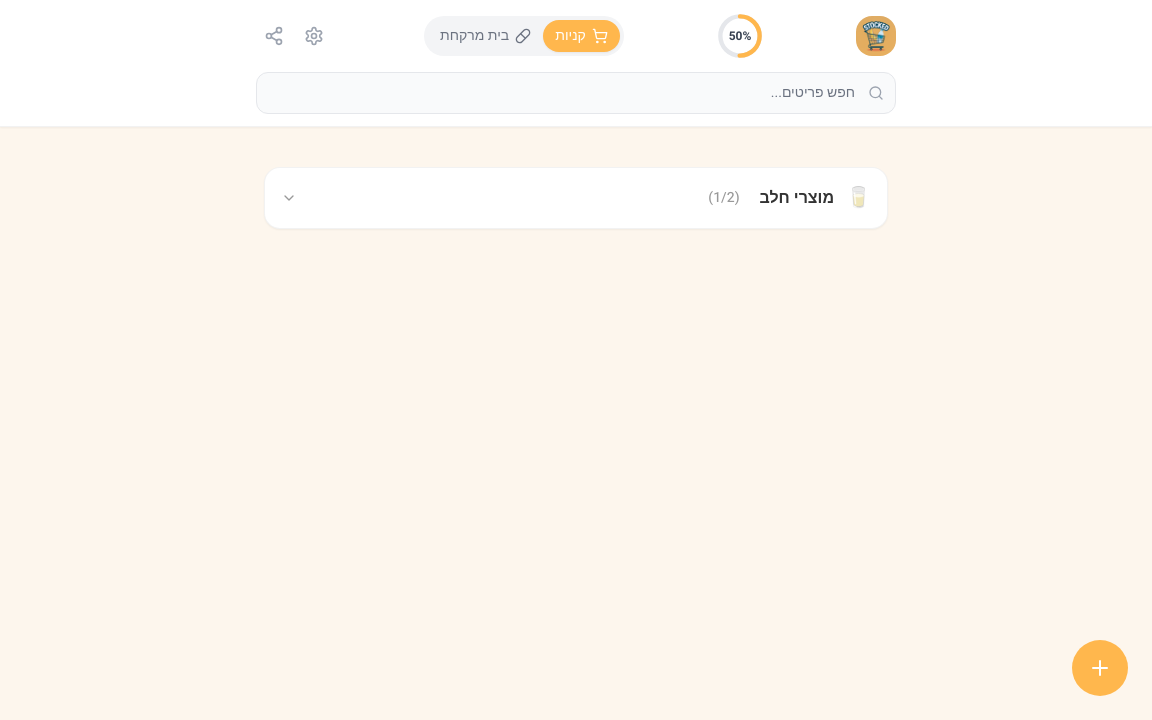
Test: HomeScreen - Detailed Tests › Search Functionality › can clear search with X button
Type "חלב" into the field with placeholder "חפש פריטים..." at (576, 93), box [256,72,896,114]
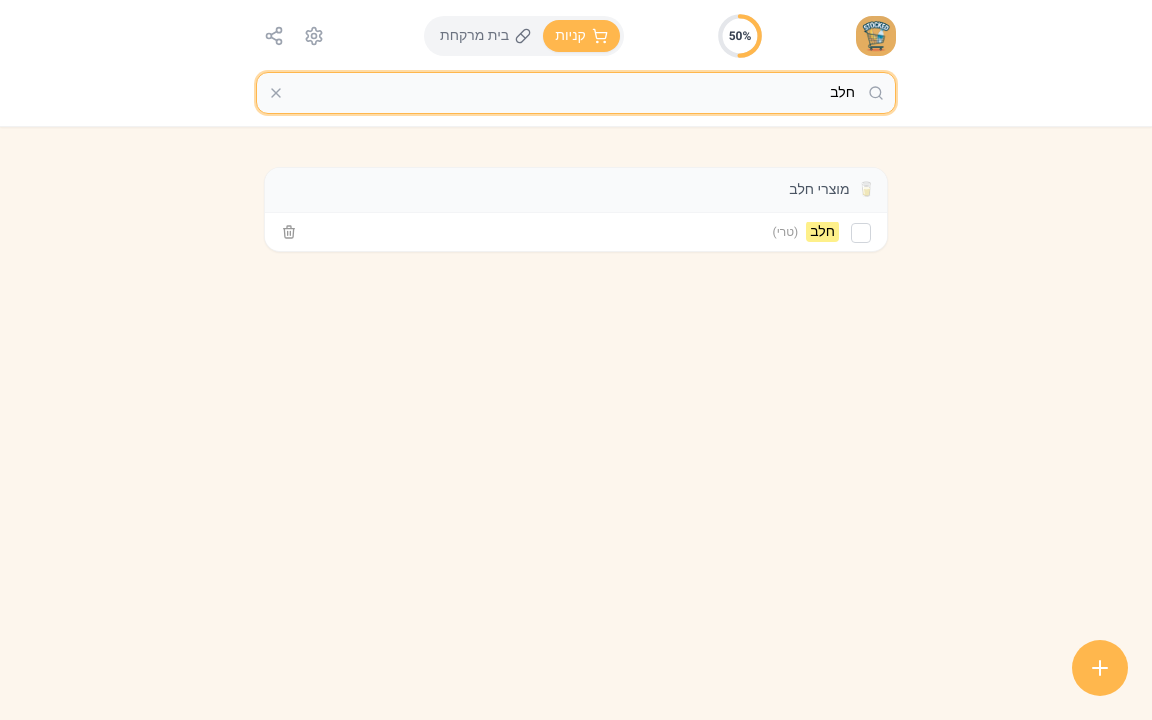
Click the 5th button at (276, 93), box [268,85,284,101]
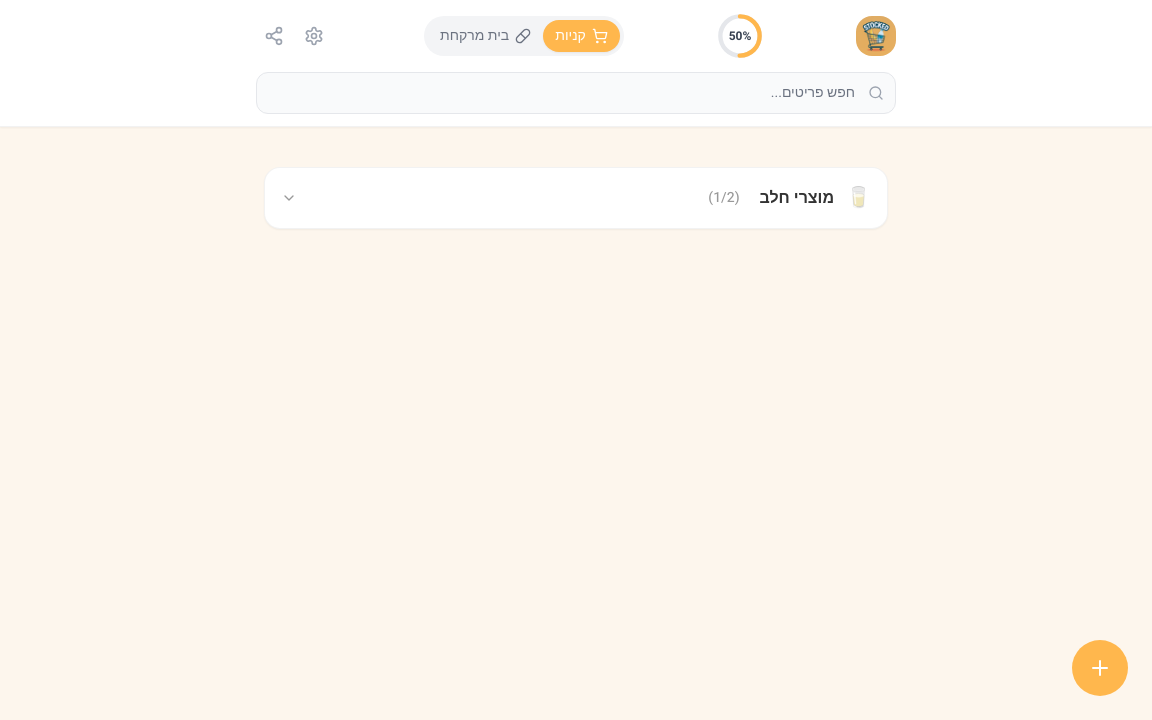
Expected: the field with placeholder "חפש פריטים..." is empty, [256,72,896,114]
